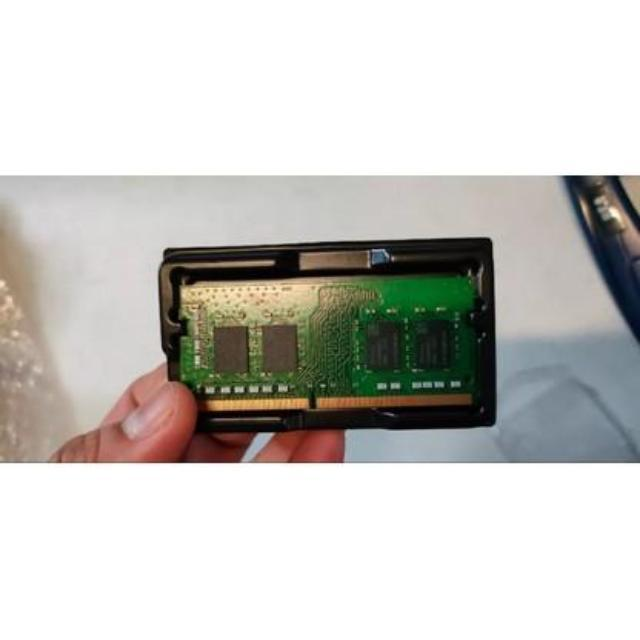RAM: (173, 274, 479, 417)
